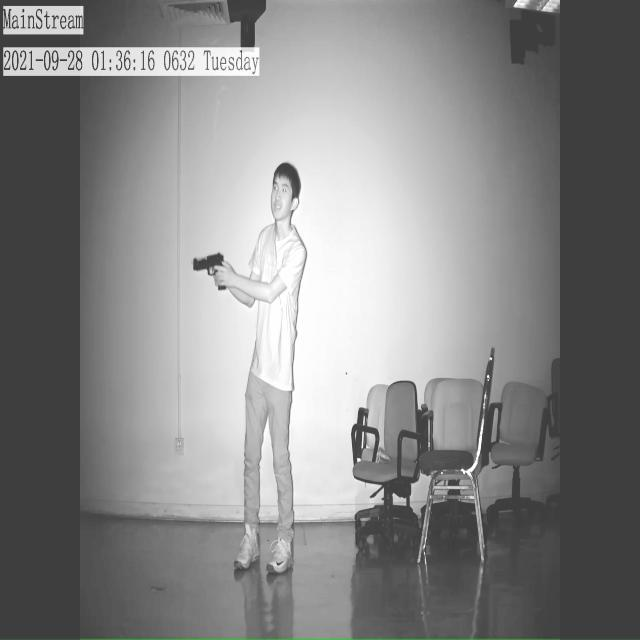Gun: (184, 239, 233, 284)
